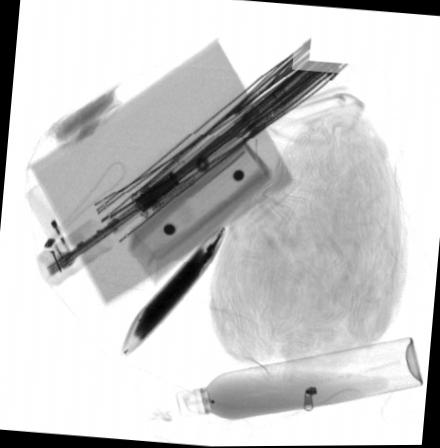Lighter: (23, 183, 74, 271)
Powerbank: (120, 227, 222, 355)
Sprayer: (176, 338, 421, 420)
